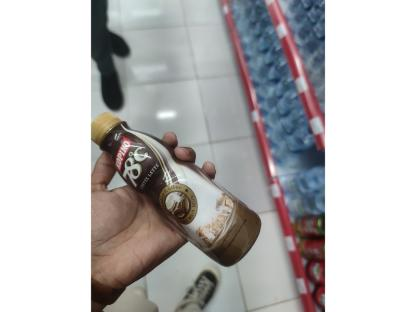Plastic Bottle: (85, 97, 273, 282)
